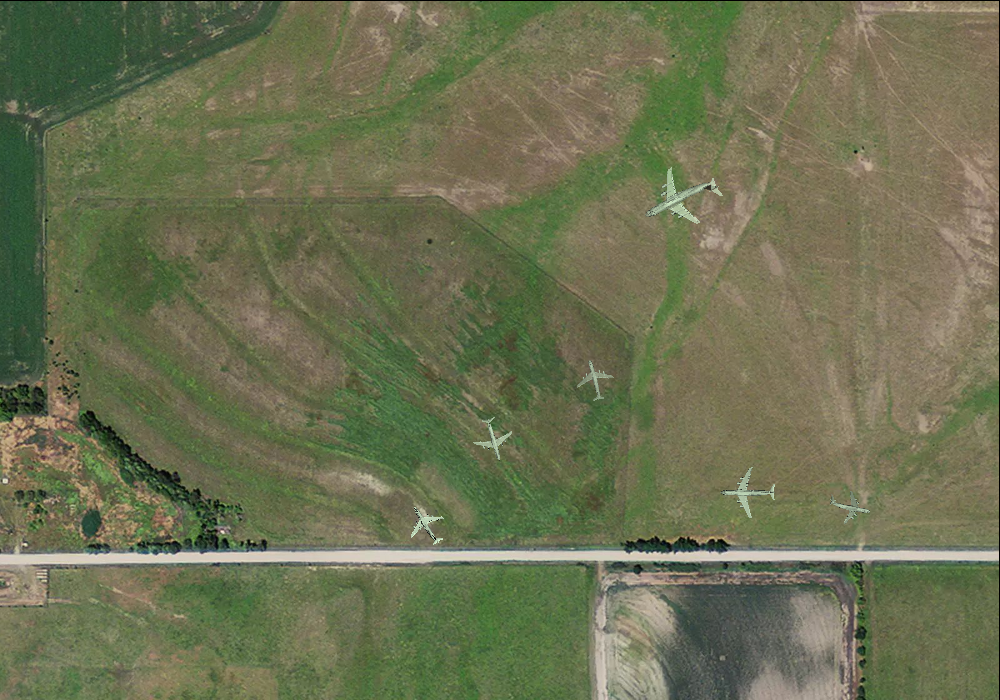plane: (629, 148, 734, 251), (397, 496, 455, 554), (720, 465, 776, 518), (467, 412, 519, 466), (569, 354, 619, 405), (825, 482, 874, 529)
